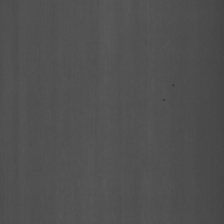inclusion: (159, 93, 168, 106), (170, 79, 175, 91)
